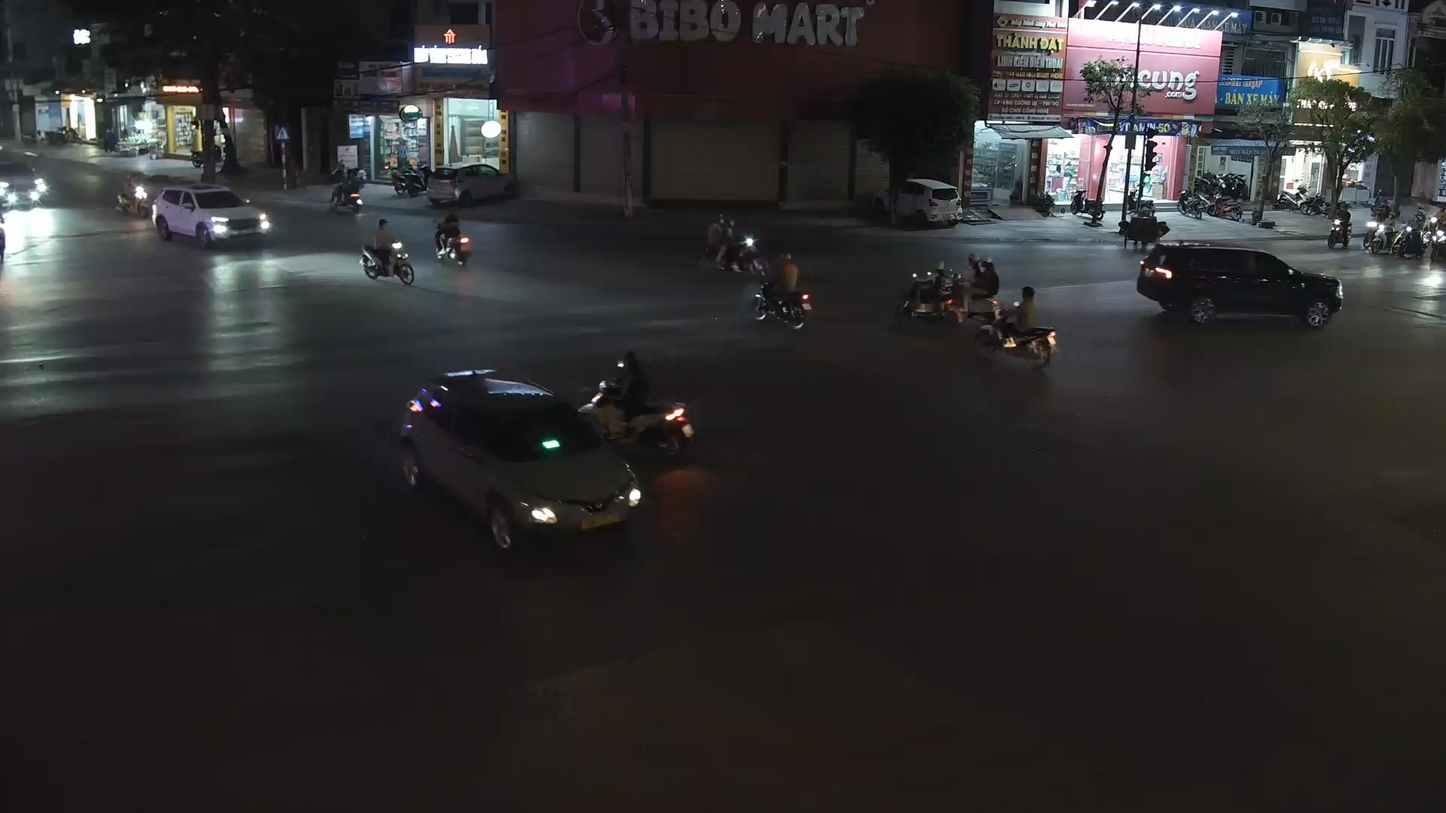car: (397, 369, 643, 552), (1135, 234, 1344, 330), (153, 179, 272, 251), (0, 153, 48, 214)
motorbike: (581, 346, 698, 462), (973, 283, 1060, 371), (749, 250, 815, 331), (893, 261, 970, 330), (358, 214, 417, 288), (431, 209, 471, 268)
